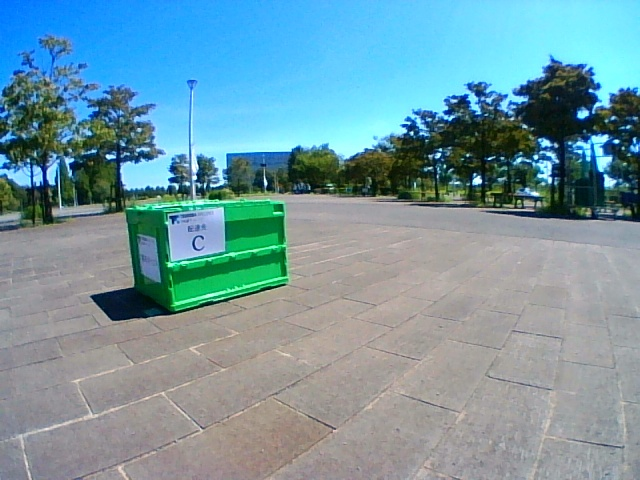green_box: (125, 199, 289, 310)
tag_c: (180, 224, 217, 252)
